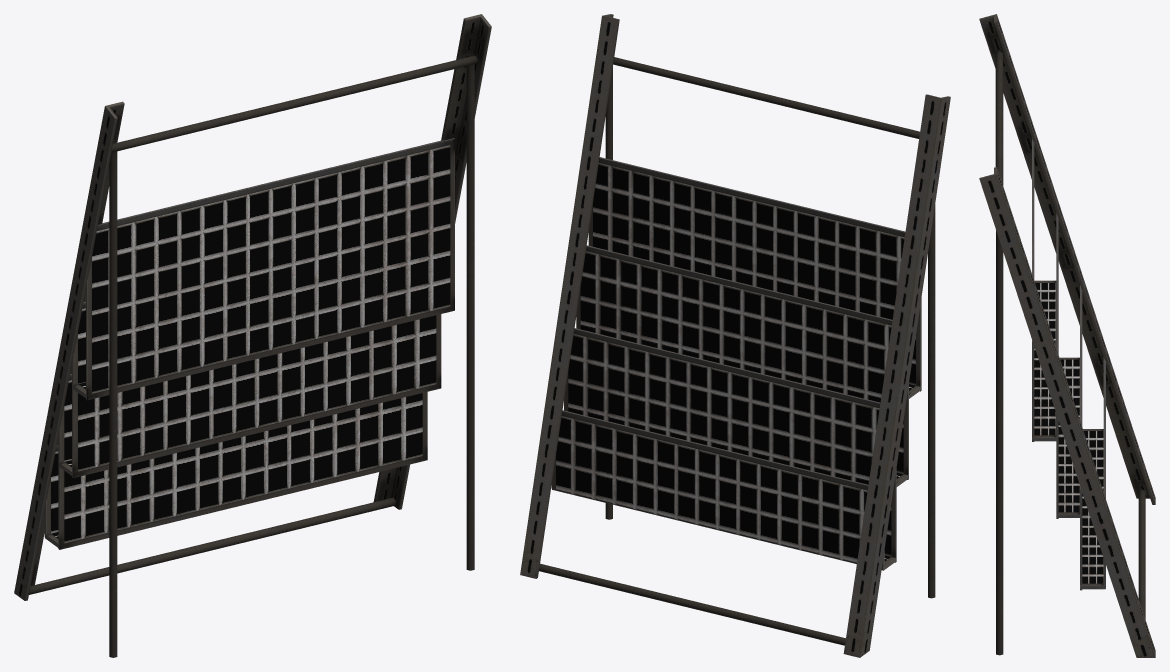
File: 123_Magazinerack.fbx
The picture shows the model from 3 angles, left to right: view 1: azimuth 30°, elevation 25°; view 2: azimuth 150°, elevation 25°; view 3: azimuth 270°, elevation 25°; orthographic projection. The views are drawn at different scales.
Visible parts, largest first — view 1: LOD_1_Group_0_Sub_1__sm30_123_MagazineRack01A_A_Mat; view 2: LOD_1_Group_0_Sub_1__sm30_123_MagazineRack01A_A_Mat; view 3: LOD_1_Group_0_Sub_1__sm30_123_MagazineRack01A_A_Mat.
Boxes of the visible parts, bbox=[...] form: LOD_1_Group_0_Sub_1__sm30_123_MagazineRack01A_A_Mat: bbox=[14, 14, 491, 657]; LOD_1_Group_0_Sub_1__sm30_123_MagazineRack01A_A_Mat: bbox=[520, 14, 950, 657]; LOD_1_Group_0_Sub_1__sm30_123_MagazineRack01A_A_Mat: bbox=[979, 14, 1155, 657].
Size of the model in its own units: 0.9135 by 1.28 by 0.4234.
